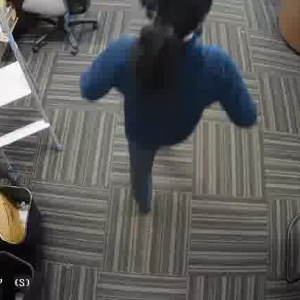person: (96, 0, 247, 181)
